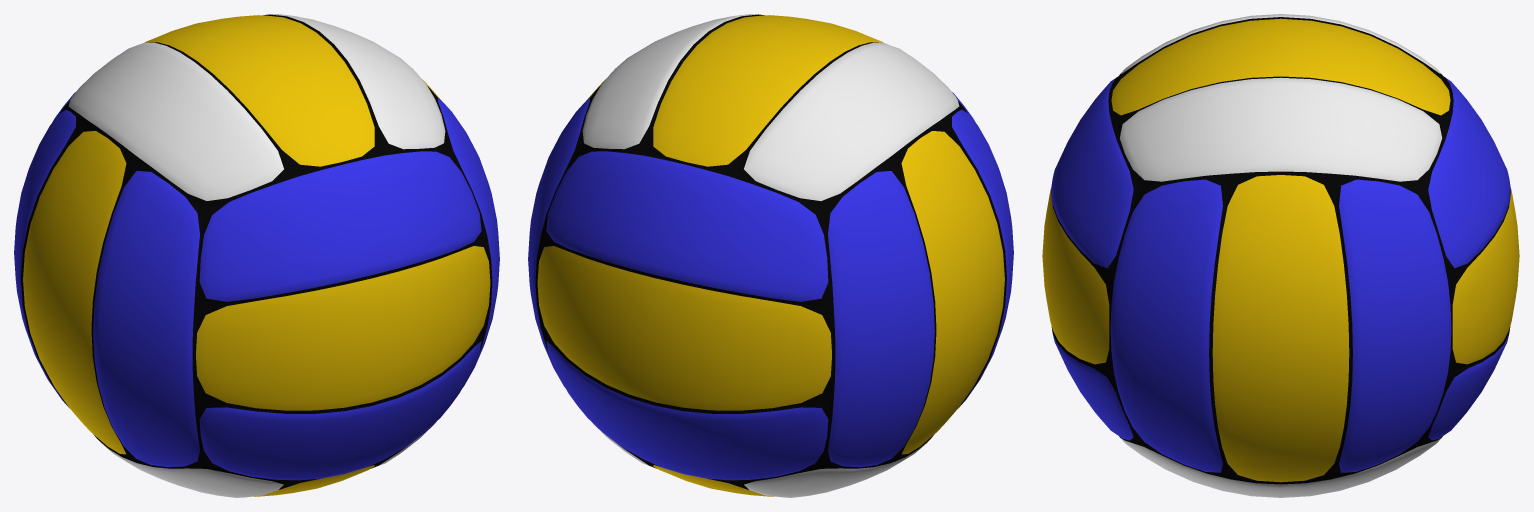
The model's file is volleyball.fbx.
3 renders of one model, left to right at view 1: azimuth 30°, elevation 25°; view 2: azimuth 150°, elevation 25°; view 3: azimuth 270°, elevation 25°, orthographic.
Parts seen in each view (by area): view 1: volleyball; view 2: volleyball; view 3: volleyball.
Boxes of the visible parts, x1,y1,x2,y2 form: volleyball: (14,14,499,497); volleyball: (528,14,1013,497); volleyball: (1042,14,1519,497).
Size of the model in its own units: 73.9 by 73.9 by 73.9.
